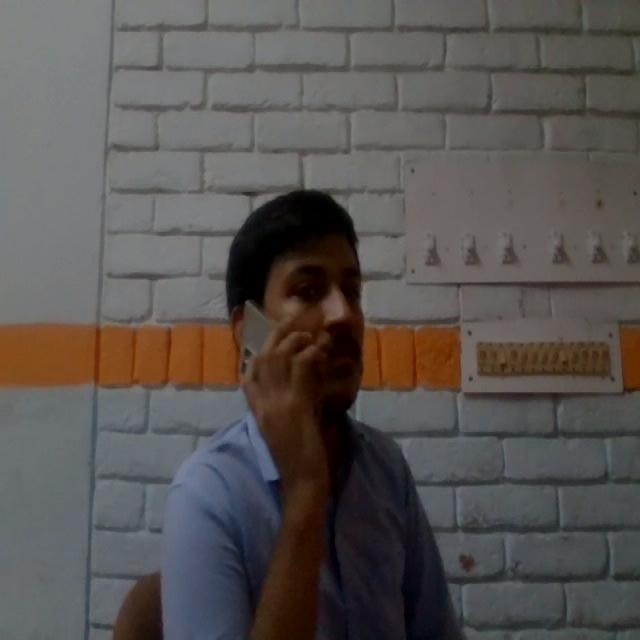oncall: (175, 192, 464, 640)
phone: (238, 304, 319, 436)
